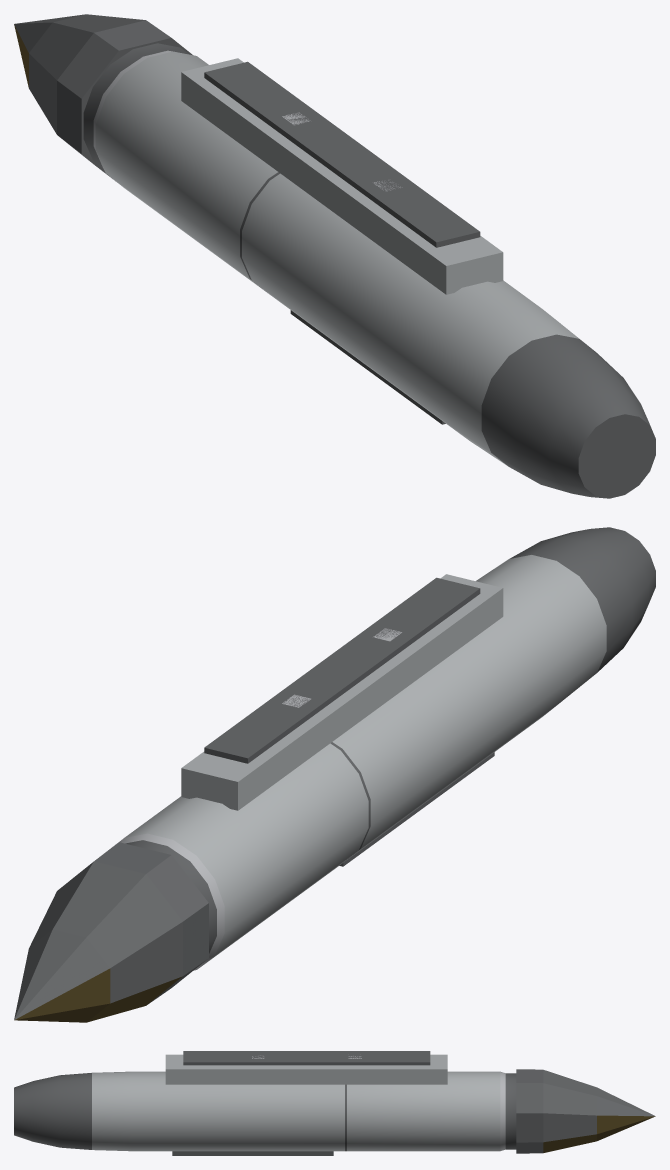
File: pod_targeting.glb
3 views of the same model, one above another, from view 1: azimuth 30°, elevation 25°; view 2: azimuth 150°, elevation 25°; view 3: azimuth 270°, elevation 25° (orthographic). The views are drawn at different scales.
Parts seen in each view (by area): view 1: pod_targeting; view 2: pod_targeting; view 3: pod_targeting.
Boxes of the visible parts, bbox=[...] form: pod_targeting: bbox=[14, 14, 655, 498]; pod_targeting: bbox=[14, 527, 655, 1022]; pod_targeting: bbox=[14, 1051, 655, 1155].
Bounding box in the file's own units: 0.2942 × 0.38 × 2.39.
